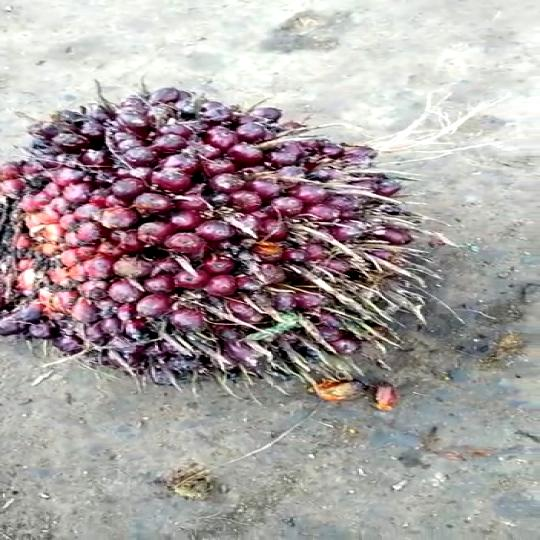kurang masak: (0, 72, 434, 414)
